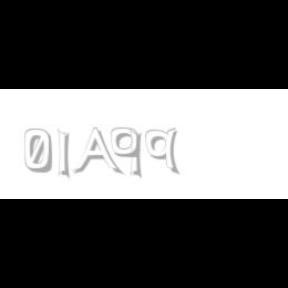0: (24, 128, 56, 174)
A: (72, 128, 120, 176)
I: (57, 128, 70, 180), (130, 128, 142, 180)
o: (110, 128, 140, 158)
q: (145, 128, 181, 176)
